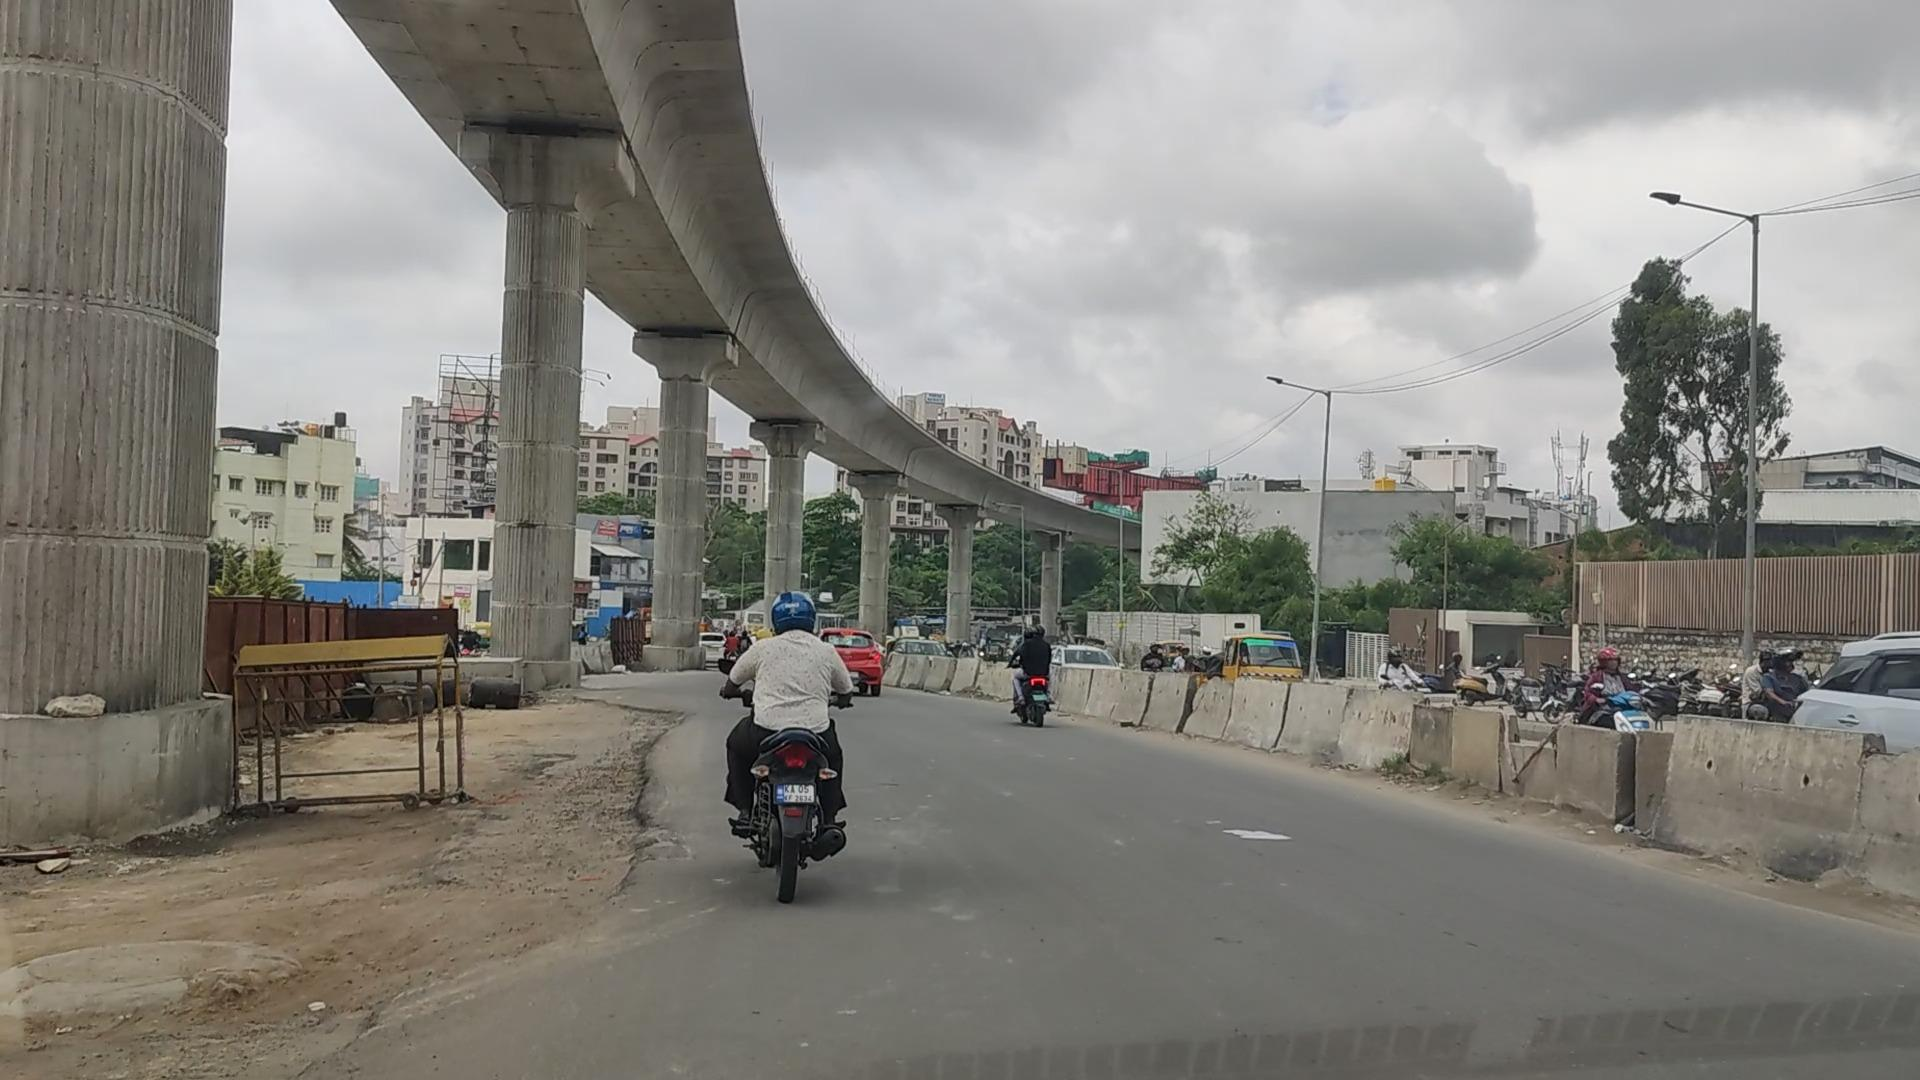LMV: (731, 595, 856, 901), (1006, 632, 1058, 725)
RoadDamages: (306, 911, 601, 1080), (28, 926, 280, 1030), (588, 690, 696, 901)
UnsurfacedRoad: (487, 715, 585, 901)
